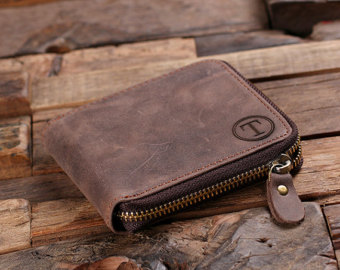monedero: (43, 57, 308, 239)
